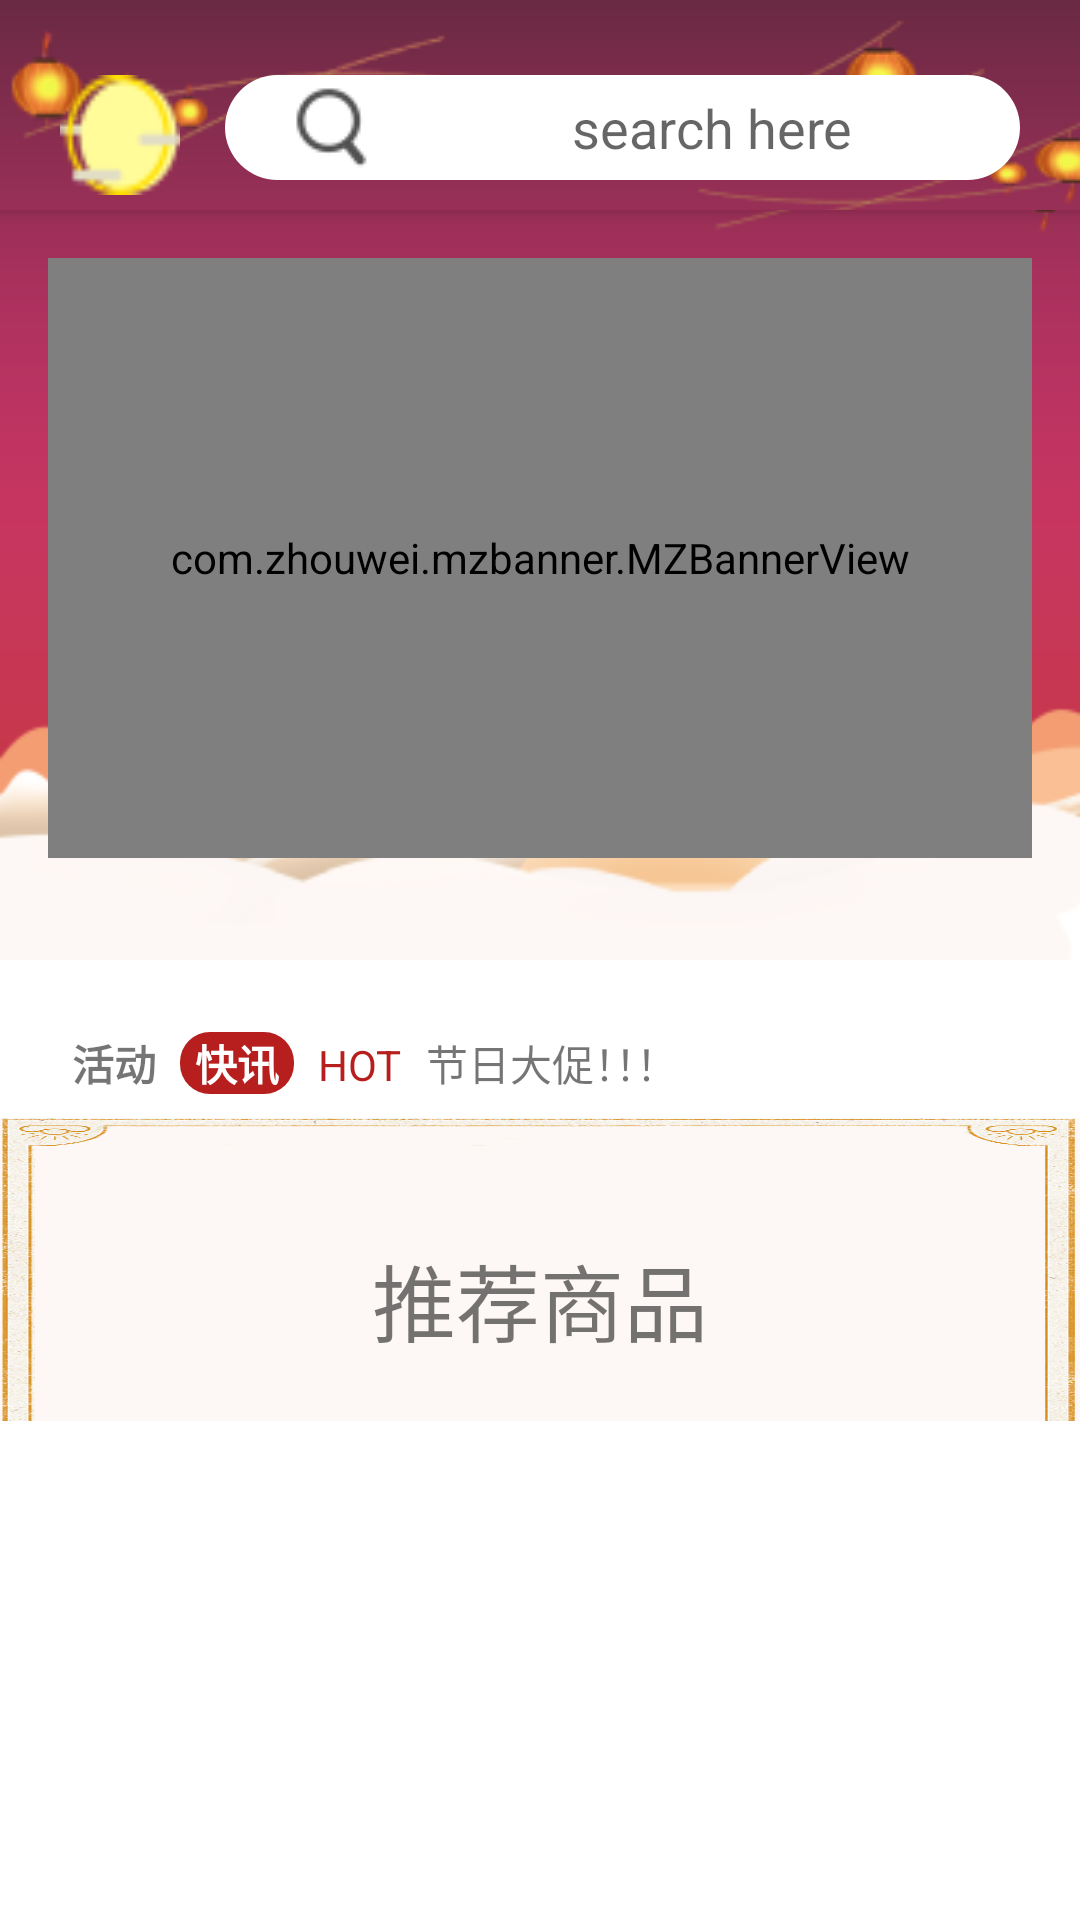

Icons on this 1080x1920 Android screen, each with the point to tap as point (x, y):
midautumicon: point (120, 135)
